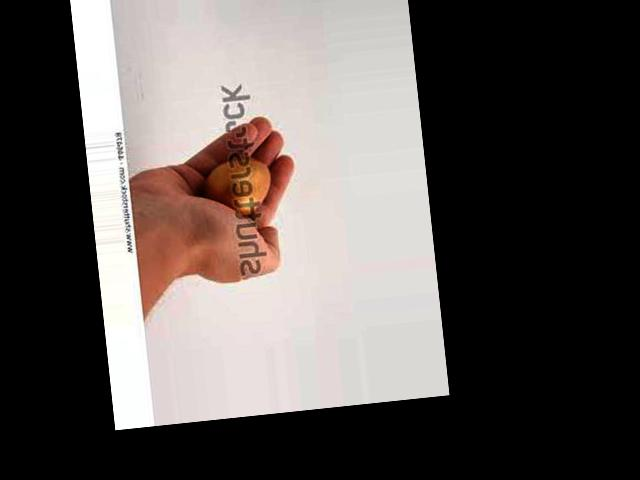egg: (202, 155, 273, 216)
